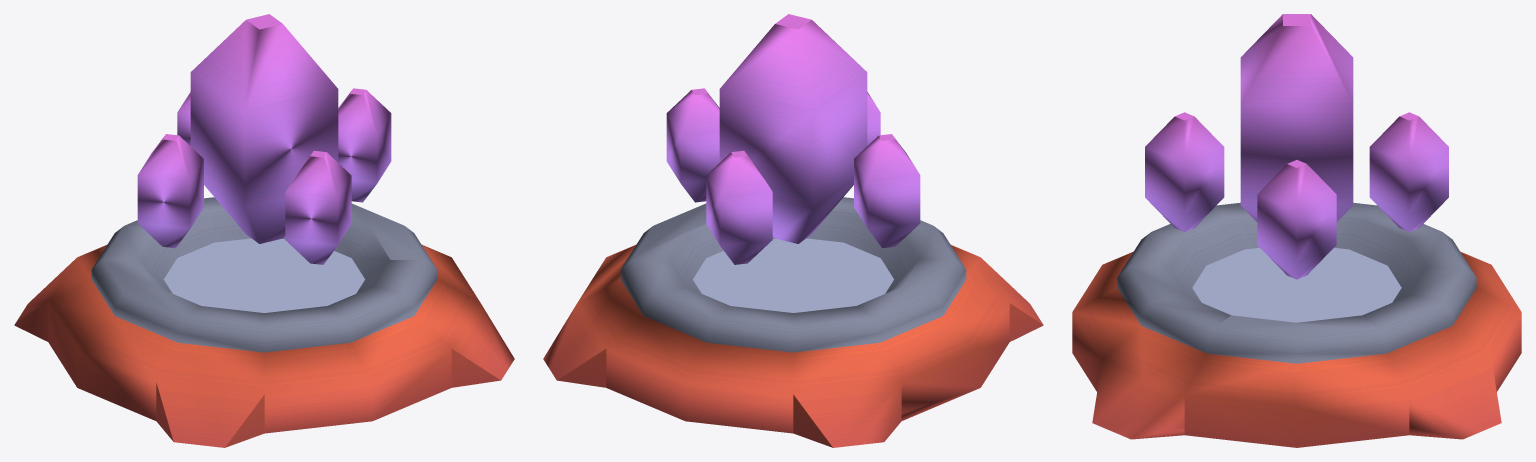
File: tower-round-crystals.glb
3 views of the same model, side by side, from view 1: azimuth 30°, elevation 25°; view 2: azimuth 150°, elevation 25°; view 3: azimuth 270°, elevation 25° (orthographic). The views are drawn at different scales.
Parts seen in each view (by area): view 1: tower-round-crystals, crystal, crystal-small.002, crystal-small.003, crystal-small.001, crystal-small; view 2: tower-round-crystals, crystal, crystal-small, crystal-small.003, crystal-small.001, crystal-small.002; view 3: tower-round-crystals, crystal, crystal-small.001, crystal-small, crystal-small.002.
Boxes of the visible parts, x1,y1,x2,y2 form: tower-round-crystals: [14, 197, 514, 447]; crystal: [190, 14, 338, 243]; crystal-small.002: [285, 150, 351, 264]; crystal-small.003: [137, 134, 203, 248]; crystal-small.001: [338, 88, 391, 202]; crystal-small: [177, 92, 190, 145]; tower-round-crystals: [543, 197, 1043, 447]; crystal: [719, 14, 867, 243]; crystal-small: [706, 150, 772, 264]; crystal-small.003: [854, 134, 920, 248]; crystal-small.001: [666, 88, 719, 202]; crystal-small.002: [867, 92, 880, 145]; tower-round-crystals: [1072, 202, 1521, 447]; crystal: [1240, 14, 1353, 221]; crystal-small.001: [1257, 160, 1336, 279]; crystal-small: [1369, 112, 1448, 231]; crystal-small.002: [1145, 112, 1224, 231].
Bounding box in the file's own units: 1 × 0.8175 × 1.
Materials: 1 (1 with a texture image).
